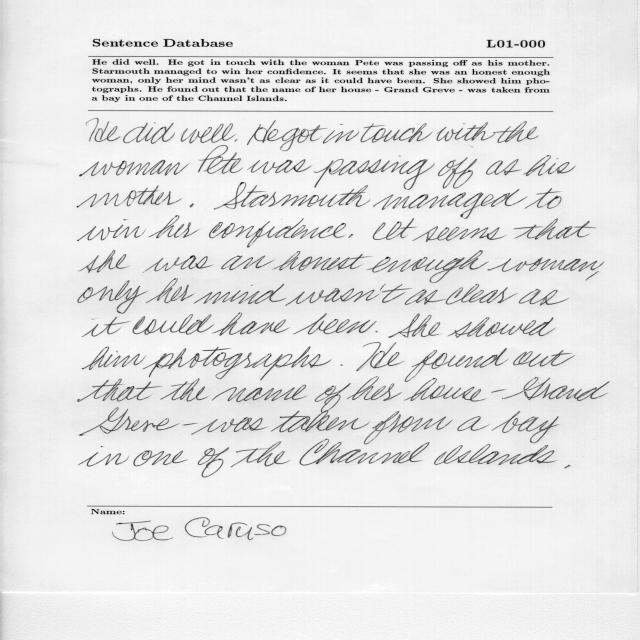word: (143, 347, 332, 381), (421, 377, 610, 402), (373, 189, 527, 219), (214, 182, 370, 210), (217, 284, 411, 306), (314, 155, 435, 190), (209, 218, 346, 248), (367, 250, 489, 283), (405, 348, 509, 382), (300, 439, 430, 466), (364, 411, 453, 444), (79, 407, 180, 436), (271, 404, 370, 432), (434, 444, 557, 465), (247, 120, 327, 151), (78, 280, 148, 314), (77, 186, 182, 208), (448, 317, 556, 338), (437, 121, 538, 143), (492, 411, 559, 443), (272, 251, 371, 271), (78, 379, 163, 402), (80, 160, 189, 177), (293, 313, 377, 335), (212, 313, 290, 336), (488, 257, 605, 272), (514, 219, 597, 240), (133, 314, 214, 335), (212, 385, 306, 402), (230, 442, 290, 468), (181, 124, 236, 152), (412, 226, 506, 242), (77, 219, 145, 241), (82, 347, 145, 370), (361, 123, 433, 143), (446, 284, 518, 304), (191, 417, 268, 435), (356, 343, 404, 371), (347, 377, 402, 401), (388, 313, 440, 338), (143, 255, 213, 273), (438, 157, 477, 189), (146, 279, 195, 304), (149, 216, 200, 239), (78, 250, 129, 273), (123, 122, 175, 144), (160, 379, 209, 402), (524, 155, 576, 176), (513, 350, 575, 367), (78, 446, 129, 466), (198, 152, 243, 174), (247, 159, 312, 174), (373, 218, 417, 240), (83, 317, 131, 337), (198, 448, 229, 478), (405, 282, 445, 305), (519, 289, 569, 306), (134, 451, 187, 467), (87, 118, 121, 142), (221, 256, 274, 271), (525, 188, 562, 209), (315, 383, 351, 404), (405, 378, 437, 401), (323, 124, 359, 143), (486, 159, 521, 175), (457, 416, 488, 431), (194, 292, 213, 304), (586, 271, 599, 281), (182, 423, 197, 426), (564, 465, 571, 469), (189, 204, 194, 208), (349, 234, 353, 238), (234, 139, 238, 142), (340, 364, 343, 366), (375, 331, 378, 332), (471, 146, 473, 147)
